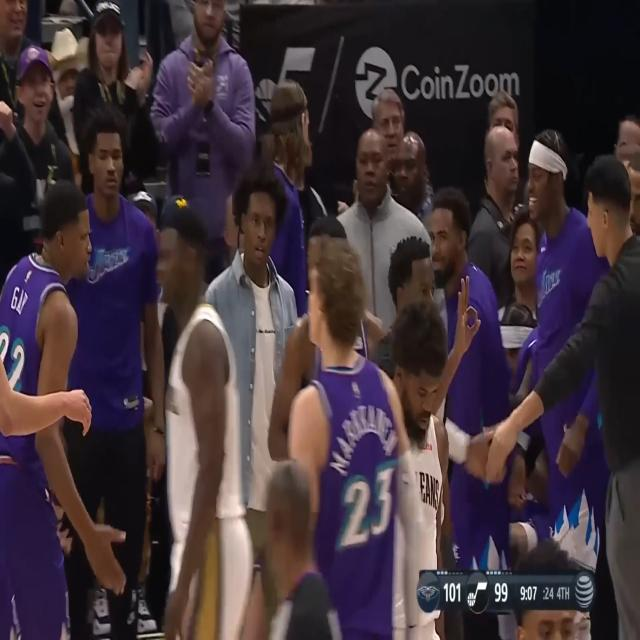Period: (556, 583, 570, 603)
Player: (267, 217, 496, 482), (0, 173, 125, 640), (284, 237, 424, 640), (154, 208, 254, 640), (380, 303, 450, 640), (0, 348, 93, 444)
Shot Clock: (543, 585, 554, 603)
Team Points: (445, 579, 460, 606), (496, 580, 508, 605)
Time Remaining: (518, 580, 540, 604)
